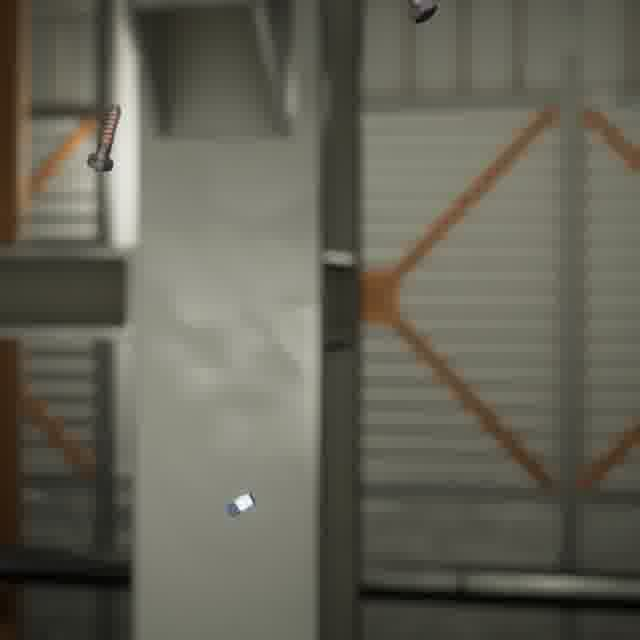bolt: (82, 98, 126, 176), (402, 0, 441, 28)
nut: (220, 487, 260, 521)
